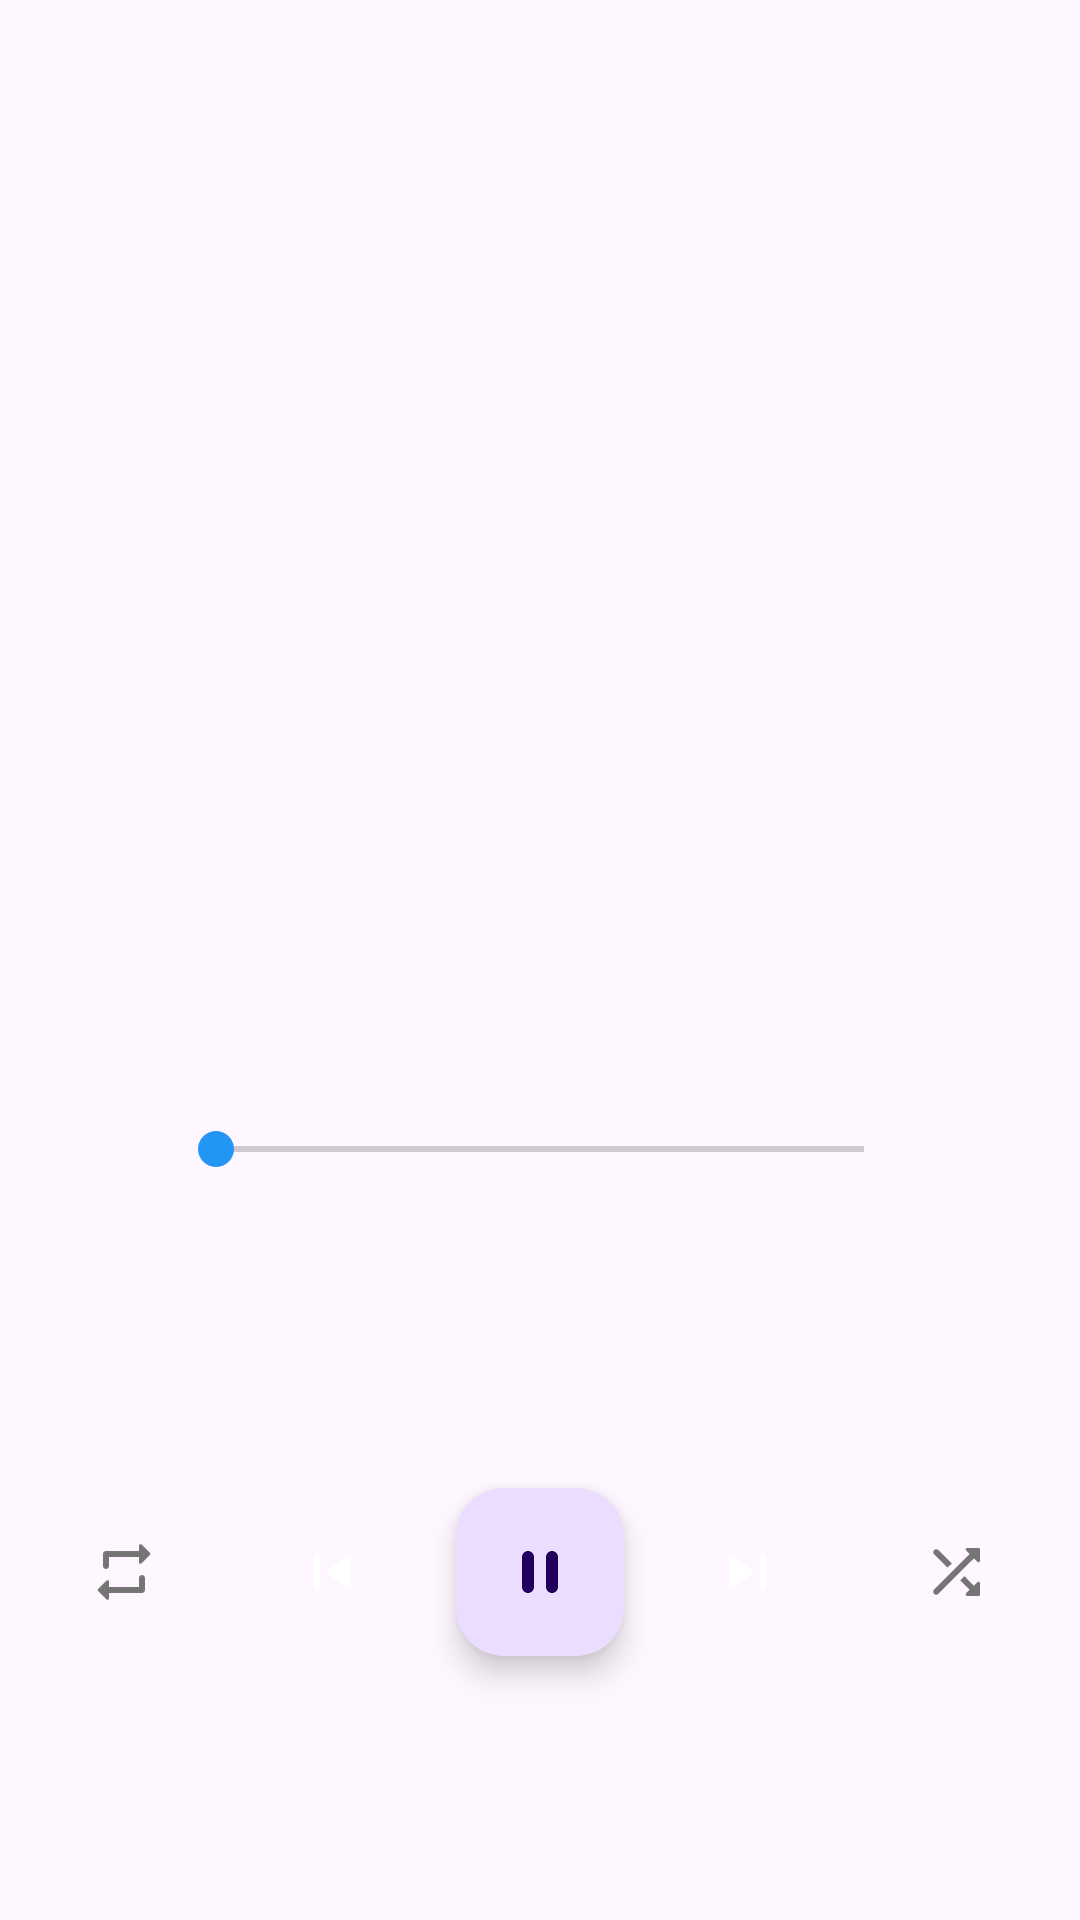

Icon bounding boxes for this 1080 × 1920 phone screenshot, format [x1, y1, x2, y2]:
pause: [456, 1488, 624, 1656]
repeat: [97, 1544, 151, 1600]
shuffle: [933, 1548, 980, 1596]
